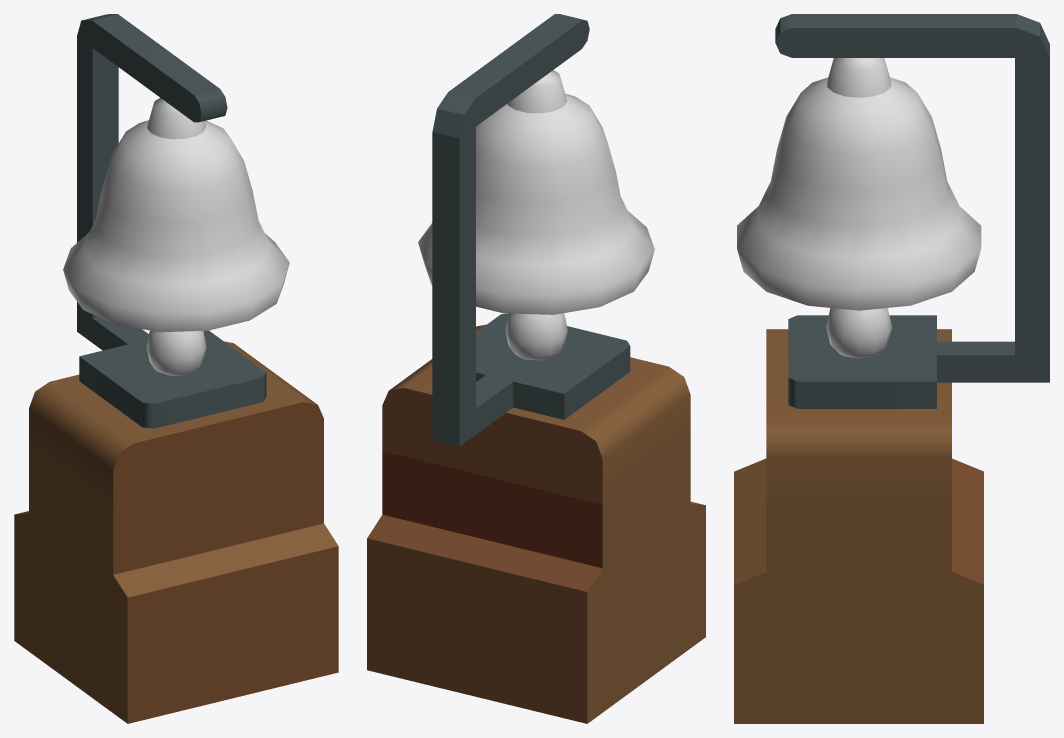
File: BellStand_Mesh.fbx
3 views of the same model, side by side, from view 1: azimuth 30°, elevation 25°; view 2: azimuth 150°, elevation 25°; view 3: azimuth 270°, elevation 25° (orthographic). The views are drawn at different scales.
Parts seen in each view (by area): view 1: BellStand_Mesh, Bell_Mesh, BellRinger_Mesh; view 2: BellStand_Mesh, Bell_Mesh, BellRinger_Mesh; view 3: BellStand_Mesh, Bell_Mesh, BellRinger_Mesh.
Boxes of the visible parts, x1,y1,x2,y2 form: BellStand_Mesh: (14, 14, 338, 723); Bell_Mesh: (63, 97, 289, 332); BellRinger_Mesh: (146, 330, 206, 375); BellStand_Mesh: (367, 14, 705, 723); Bell_Mesh: (418, 70, 654, 314); BellRinger_Mesh: (505, 313, 567, 360); BellStand_Mesh: (734, 14, 1049, 723); Bell_Mesh: (737, 58, 981, 310); BellRinger_Mesh: (826, 308, 891, 358).
Size of the model in its own units: 34.54 by 91.88 by 40.67.
